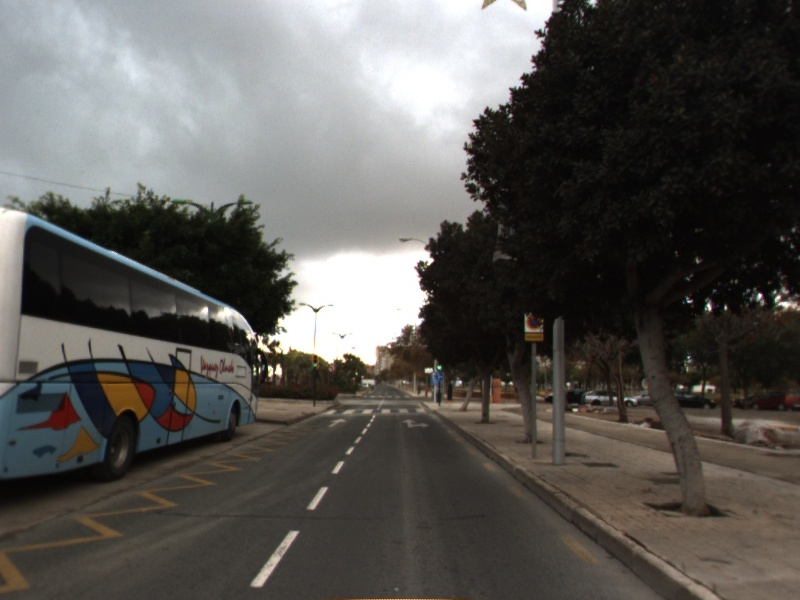STRAIGHT: (326, 417, 349, 429)
STRAIGHT_RIGHT: (400, 417, 432, 430)
